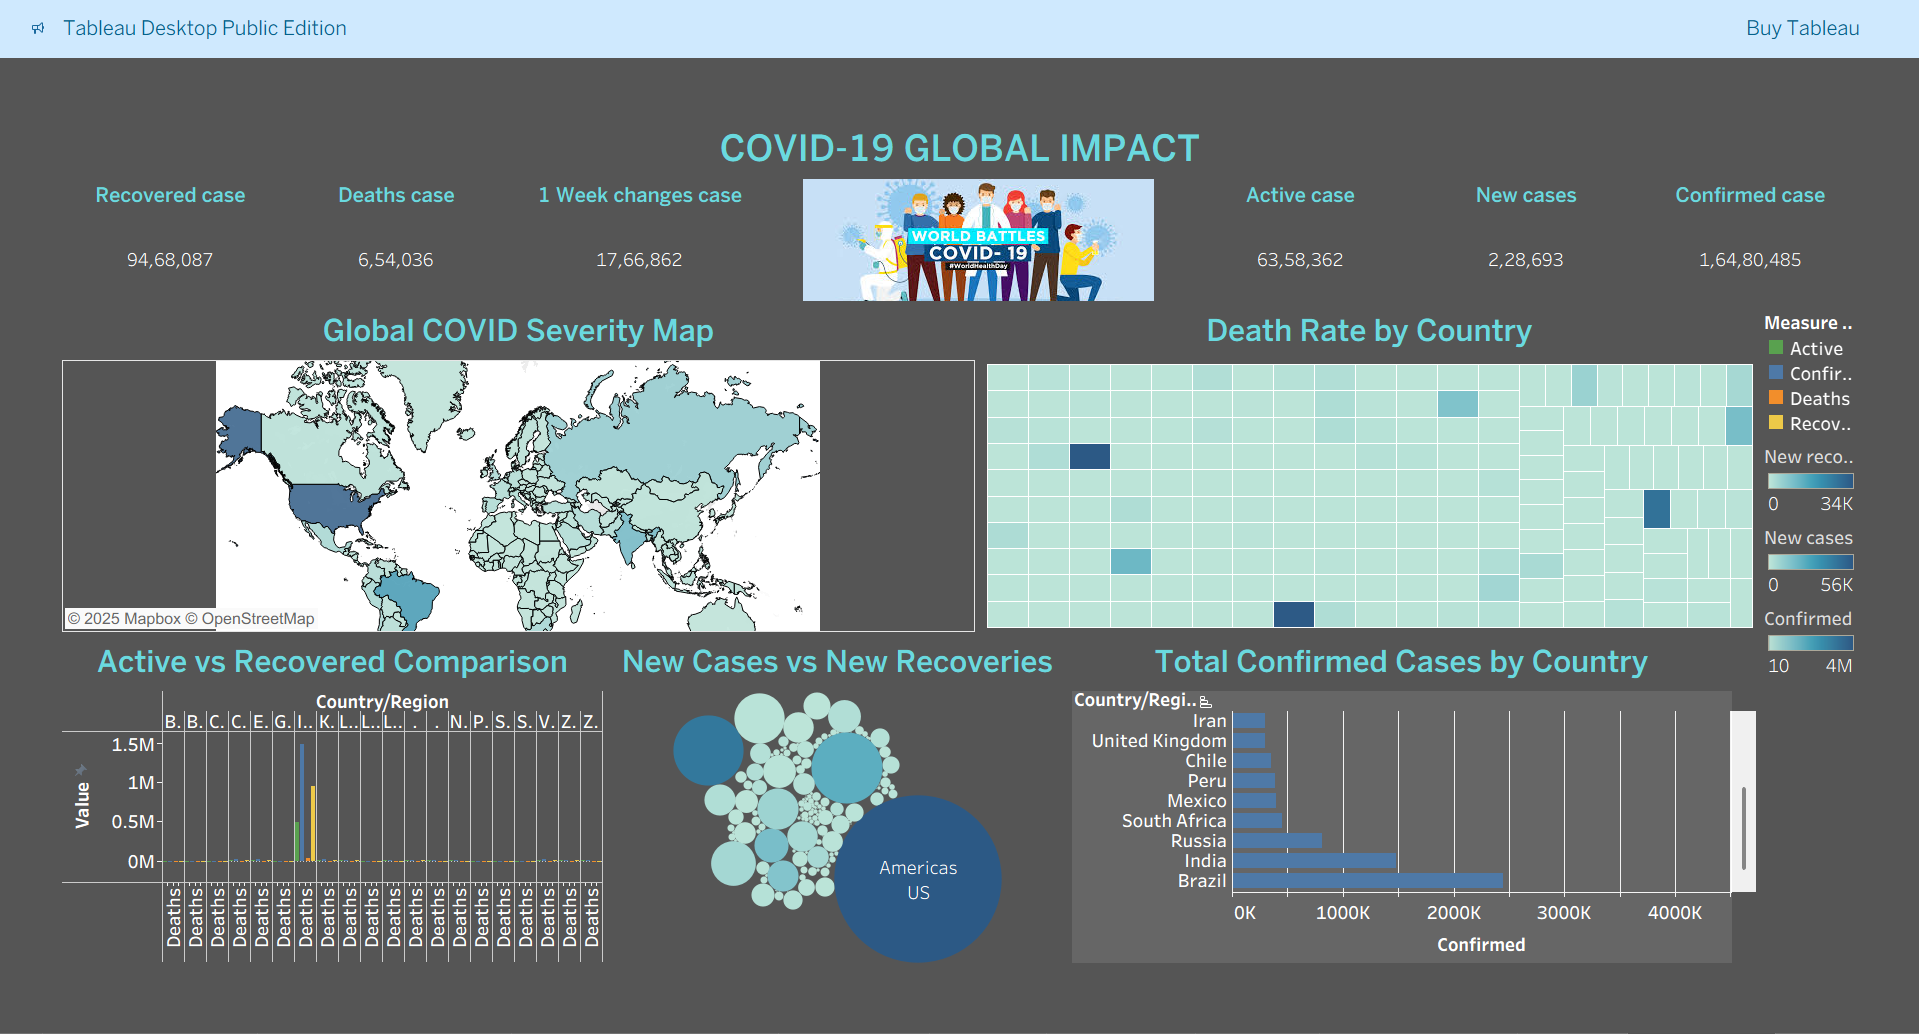

This screenshot's page, from the dashboard's own definition file:
{"tool":"tableau","page":{"name":"Dashboard 1","canvas":[1620,860],"ordinal":0},"visuals":[{"type":"title","box":[8,8,1604,52]},{"type":"worksheet","title":"recovered case","mark":"Automatic","box":[8,60,200.5,130]},{"type":"worksheet","title":"Deaths case","mark":"Automatic","box":[208.5,60,200.5,130]},{"type":"worksheet","title":"1 week chages cases","mark":"Automatic","box":[409,60,233,130]},{"type":"image","param":"C:/Users/Seeram/OneDrive/Pictures/Saved Pictures/images (1).jpeg","box":[642,60,368,130]},{"type":"worksheet","title":"Active case","mark":"Automatic","box":[1010,60,205,130]},{"type":"worksheet","title":"New cases","mark":"Automatic","box":[1215,60,198.5,130]},{"type":"worksheet","title":"confirmed case","mark":"Automatic","box":[1413.5,60,198.5,130]},{"type":"worksheet","title":"Global COVID Severity Map","mark":"Automatic","box":[8,190,751,331]},{"type":"worksheet","title":"Death Rate by Country","mark":"Automatic","box":[759,190,751,331]},{"type":"legend","title":"Active vs Recovered Comparison","param":"[federated.1spuzza1w6i6ov19ngn0y16kc1g4].[:Measure Names]","box":[1510,190,102,134]},{"type":"legend","title":"Death Rate by Country","param":"[federated.1spuzza1w6i6ov19ngn0y16kc1g4].[sum:New recovered:qk]","box":[1510,324,102,81]},{"type":"legend","title":"New cases vs new recoveries","param":"[federated.1spuzza1w6i6ov19ngn0y16kc1g4].[sum:New cases:qk]","box":[1510,405,102,81]},{"type":"legend","title":"Global COVID Severity Map","param":"[federated.1spuzza1w6i6ov19ngn0y16kc1g4].[sum:Confirmed:qk]","box":[1510,486,102,81]},{"type":"worksheet","title":"Active vs Recovered Comparison","mark":"Automatic","cols":["Country/Region"],"box":[8,521,484.7,331]},{"type":"worksheet","title":"New cases vs new recoveries","mark":"Circle","box":[492.7,521,406.7,331]},{"type":"worksheet","title":"Total Confirmed Cases by Country","mark":"Automatic","rows":["Country/Region"],"cols":["Confirmed"],"box":[899.4,521,610.6,331]}]}

Visuals, with their boxes on the page's 1620x860 design canvas (x1, y1, x2, y2). These are canvas units, not pixel positions in the 1919x1034 screenshot, which may show the page scaled, cropped or inside an application window:
title: 8/8/1612/60
"recovered case" worksheet: 8/60/208/190
"Deaths case" worksheet: 208/60/409/190
"1 week chages cases" worksheet: 409/60/642/190
image: 642/60/1010/190
"Active case" worksheet: 1010/60/1215/190
"New cases" worksheet: 1215/60/1414/190
"confirmed case" worksheet: 1414/60/1612/190
"Global COVID Severity Map" worksheet: 8/190/759/521
"Death Rate by Country" worksheet: 759/190/1510/521
"Active vs Recovered Comparison" legend: 1510/190/1612/324
"Death Rate by Country" legend: 1510/324/1612/405
"New cases vs new recoveries" legend: 1510/405/1612/486
"Global COVID Severity Map" legend: 1510/486/1612/567
"Active vs Recovered Comparison" worksheet: 8/521/493/852
"New cases vs new recoveries" worksheet (Circle marks): 493/521/899/852
"Total Confirmed Cases by Country" worksheet: 899/521/1510/852
